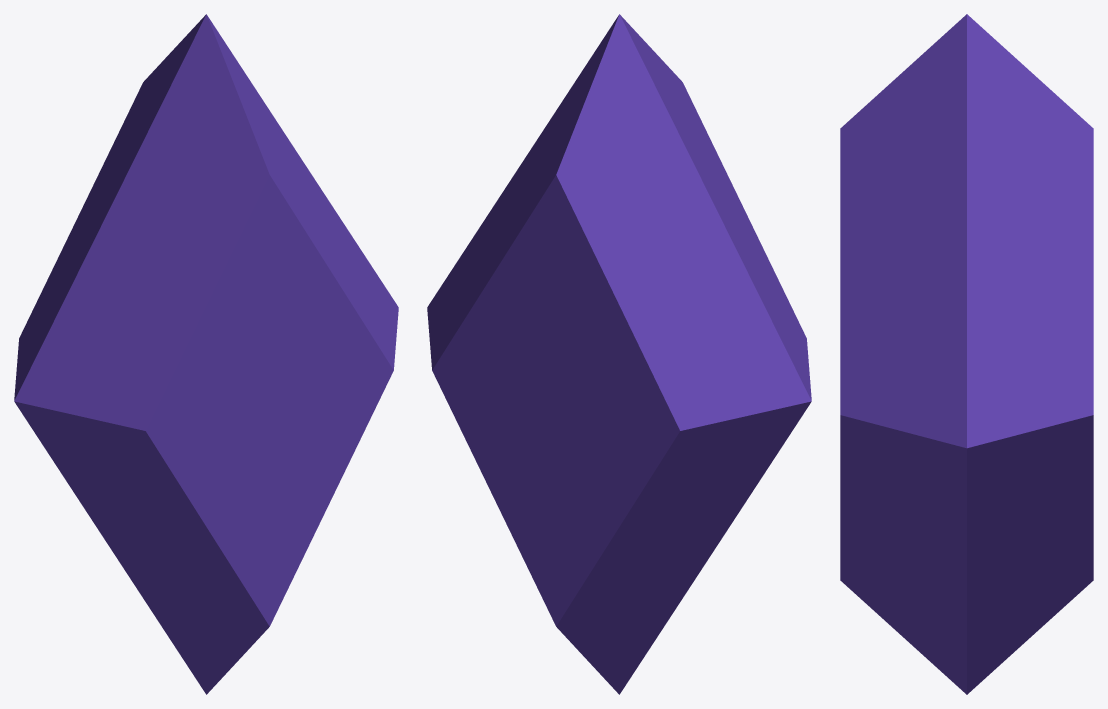
The model's file is Gem_3-1.fbx.
3 renders of one model, left to right at view 1: azimuth 30°, elevation 25°; view 2: azimuth 150°, elevation 25°; view 3: azimuth 270°, elevation 25°, orthographic.
Parts seen in each view (by area): view 1: Gem_3-1; view 2: Gem_3-1; view 3: Gem_3-1.
Part boxes in pixels (x1,y1,x2,y2): Gem_3-1: (14,14,398,694); Gem_3-1: (427,14,811,694); Gem_3-1: (840,14,1093,694).
Size of the model in its own units: 44.72 by 75.64 by 25.49.
